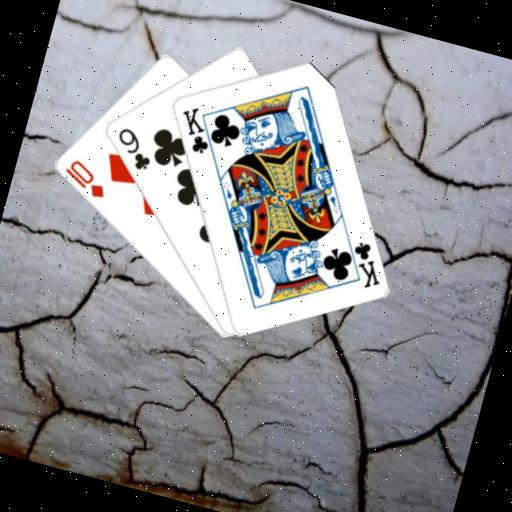10D: (56, 154, 112, 202)
9C: (107, 122, 159, 174)
KC: (169, 100, 227, 159), (332, 234, 390, 293)
